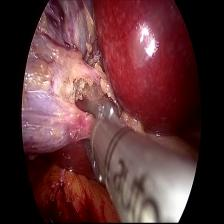Clipper: (83, 98, 131, 188)
